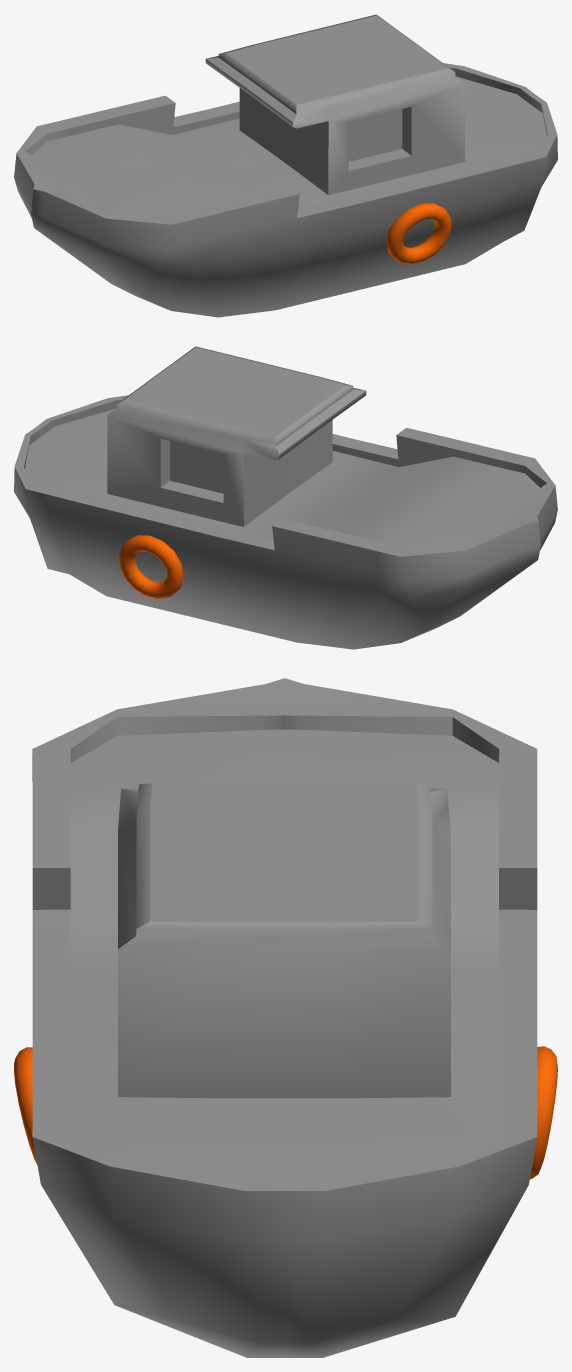
File: Boat.FBX
The picture shows the model from 3 angles, top to bottom: view 1: azimuth 30°, elevation 25°; view 2: azimuth 150°, elevation 25°; view 3: azimuth 270°, elevation 25°; orthographic projection. The views are drawn at different scales.
Visible parts, largest first — view 1: Boat, Lifesaver; view 2: Boat, Lifesaver; view 3: Boat, Lifesaver.
Boxes of the visible parts, box(x1,y1,x2,y2) form: Boat: box(14, 14, 557, 317); Lifesaver: box(386, 203, 451, 264); Boat: box(14, 346, 557, 649); Lifesaver: box(119, 535, 183, 598); Boat: box(32, 678, 537, 1357); Lifesaver: box(14, 1046, 557, 1179).
Size of the model in its own units: 568 by 217 by 281.
